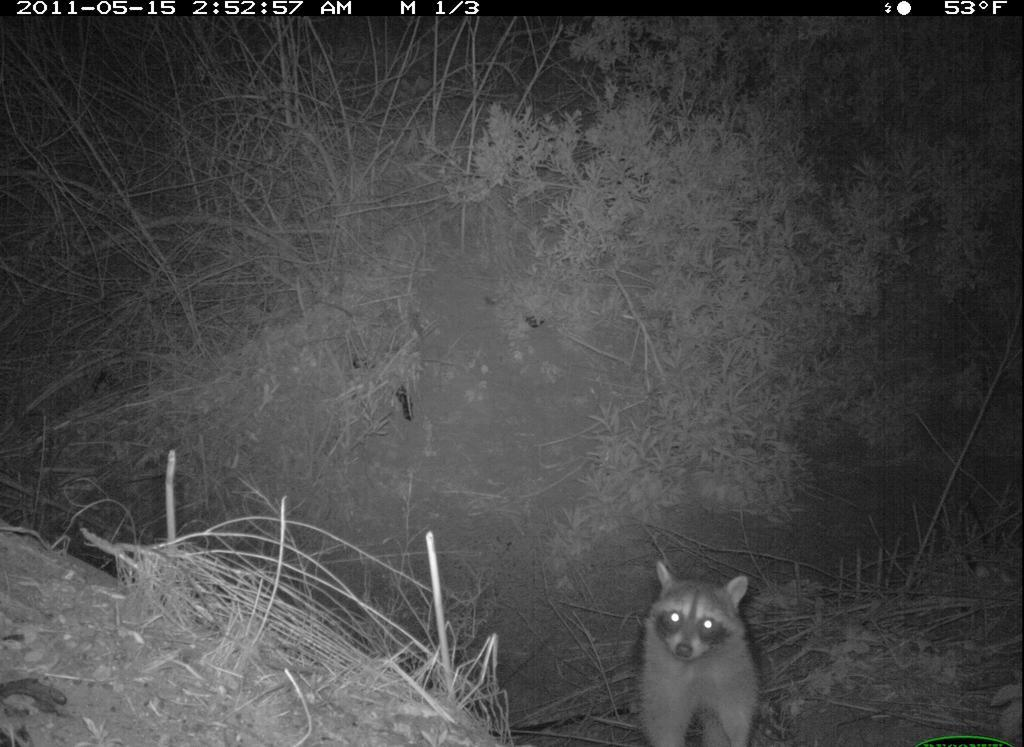raccoon: (632, 548, 771, 747)
